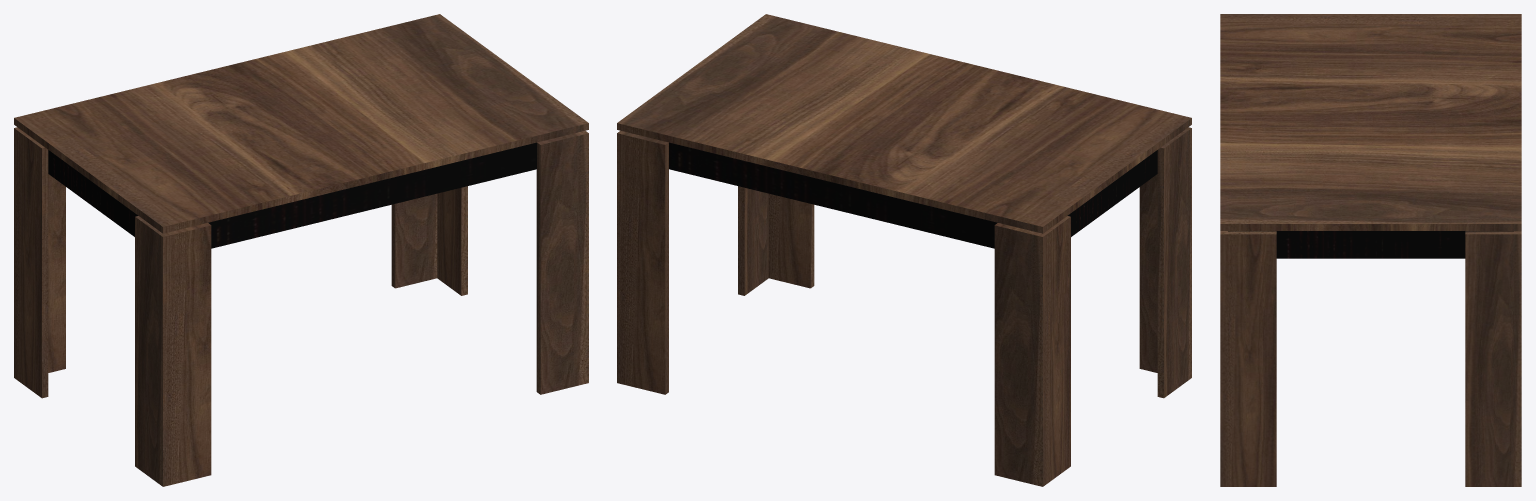
Rendered from table.gltf.
The picture shows the model from 3 angles, left to right: view 1: azimuth 30°, elevation 25°; view 2: azimuth 150°, elevation 25°; view 3: azimuth 270°, elevation 25°; orthographic projection.
Parts seen in each view (by area): view 1: Box001, Line002, Line003, Line001, Rectangle001, Line004; view 2: Box001, Line001, Line004, Line002, Rectangle001, Line003; view 3: Box001, Line003, Line004, Rectangle001.
Boxes of the visible parts, bbox=[...] form: Box001: bbox=[14, 14, 588, 233]; Line002: bbox=[135, 216, 211, 486]; Line003: bbox=[536, 130, 588, 394]; Line001: bbox=[14, 127, 65, 398]; Rectangle001: bbox=[48, 142, 536, 248]; Line004: bbox=[391, 186, 467, 295]; Box001: bbox=[617, 14, 1191, 233]; Line001: bbox=[994, 216, 1070, 486]; Line004: bbox=[617, 130, 668, 394]; Line002: bbox=[1139, 127, 1191, 398]; Rectangle001: bbox=[669, 142, 1157, 248]; Line003: bbox=[738, 186, 814, 295]; Box001: bbox=[1220, 14, 1521, 230]; Line003: bbox=[1220, 231, 1276, 486]; Line004: bbox=[1465, 231, 1521, 486]; Rectangle001: bbox=[1228, 231, 1513, 258].
Size of the model in its own units: 1.32 by 0.77 by 0.8.
2 materials, 2 textured.
